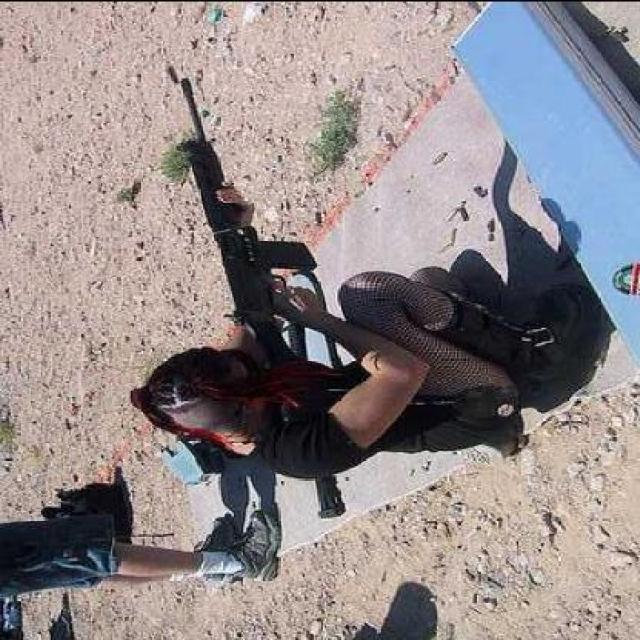Rifle: (150, 51, 389, 596)
